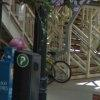Bicycle: (44, 43, 72, 86)
